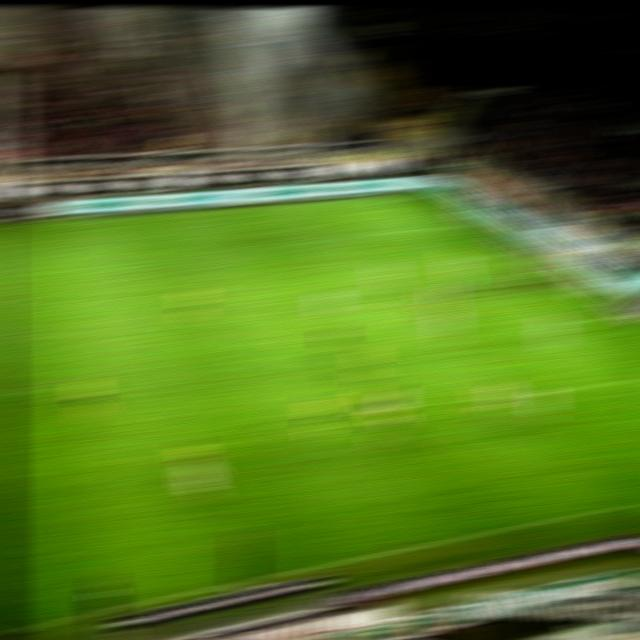bigarea_bottom_inner: (499, 390, 526, 400)
bigarea_top_inner: (328, 230, 355, 241)
bigarea_top_outter: (453, 219, 480, 229)
bottom_arc_area_intersection: (426, 322, 452, 332)
corner: (408, 190, 435, 201)
halfcircle_bottom: (0, 385, 20, 396)
halfcircle_top: (0, 296, 20, 307)
midline_top_intersection: (0, 220, 25, 230)
smallarea_bottom_inner: (548, 317, 575, 328)
smallarea_bottom_outter: (599, 310, 626, 321)
smallarea_top_inner: (455, 252, 482, 262)
smallarea_top_outter: (499, 247, 525, 257)
top_arc_area_intersection: (366, 266, 393, 277)
